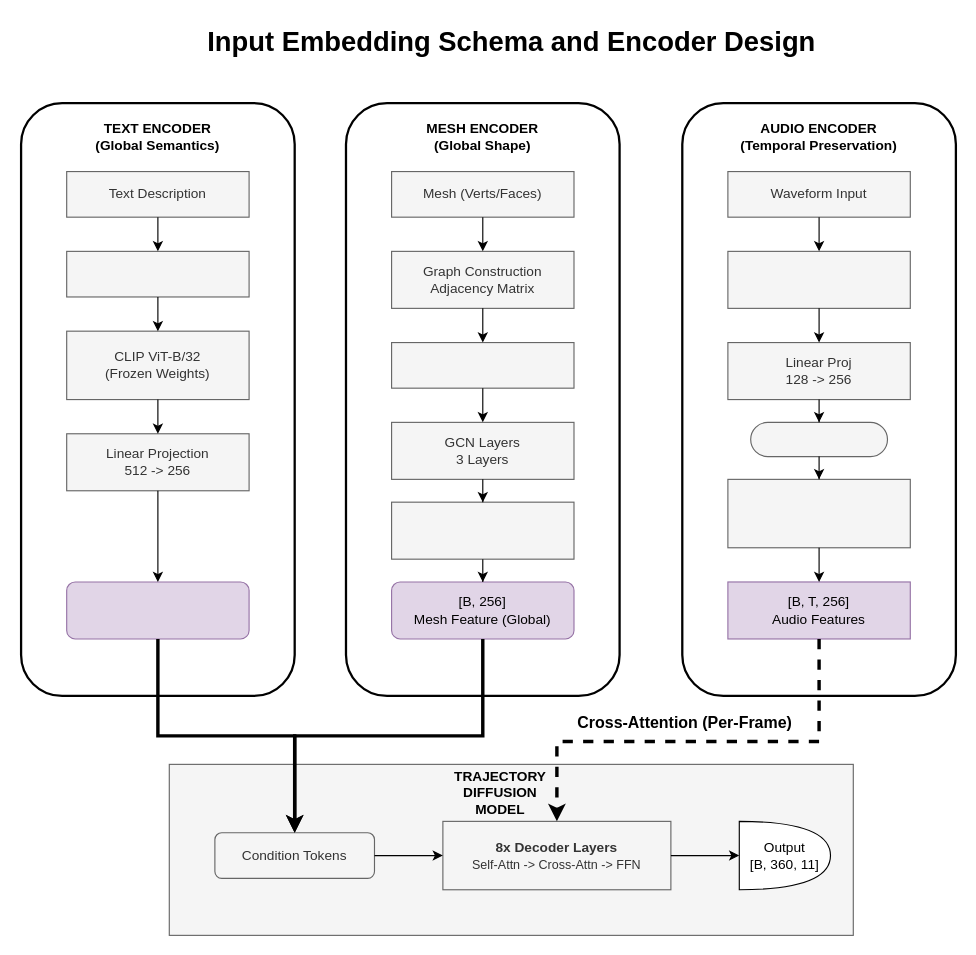
Image size: 976x955. Some labels were removed from this diagram. Each missing label, with the centre of its shape:
+ Positional Enc: point (818, 439)
[B, 256] Text Feature (Global): point (157, 610)
CLIP Tokenizer: point (157, 273)
Linear 3 -> 128: point (482, 364)
Mean Pool + LN 128 -> 256: point (482, 530)
Mel Spectrogram 128 bins: point (818, 279)
Transformer Encoder 4 Layers / LayerNorm: point (818, 513)
